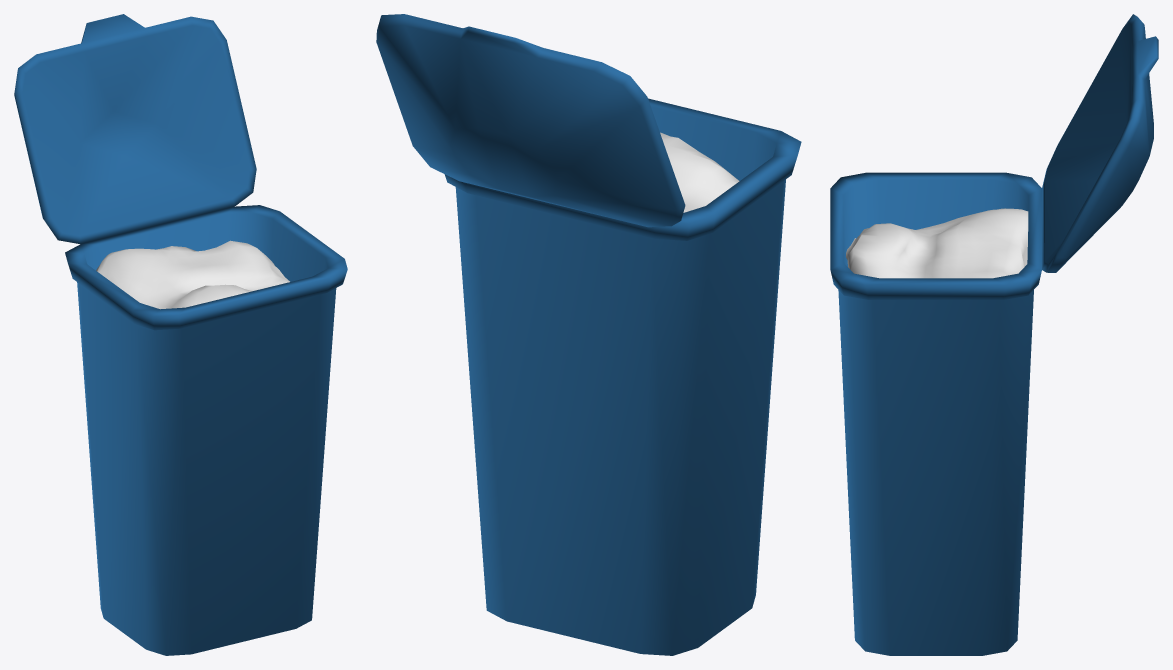
File: Ropa.fbx
3 renders of one model, left to right at view 1: azimuth 30°, elevation 25°; view 2: azimuth 150°, elevation 25°; view 3: azimuth 270°, elevation 25°, orthographic. The views are drawn at different scales.
Visible parts, largest first — view 1: Laundry Bin LP, Plane.069; view 2: Laundry Bin LP, Plane.069; view 3: Laundry Bin LP, Plane.069.
Part boxes in pixels (<box>): Laundry Bin LP: <box>14,14,347,655</box>; Plane.069: <box>96,240,289,309</box>; Laundry Bin LP: <box>376,14,801,655</box>; Plane.069: <box>660,132,739,212</box>; Laundry Bin LP: <box>830,14,1158,655</box>; Plane.069: <box>846,208,1028,278</box>.
Size of the model in its own units: 0.44 by 1.03 by 0.5426.
